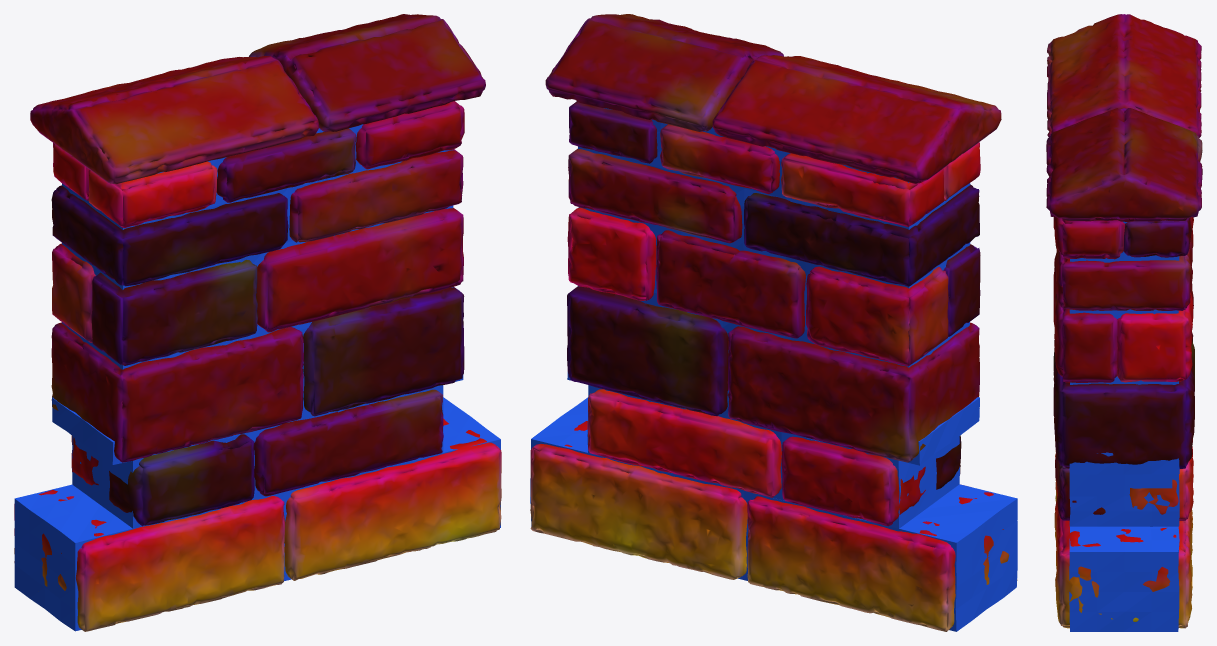
Rendered from SM_Merlon488_D.fbx.
3 renders of one model, left to right at view 1: azimuth 30°, elevation 25°; view 2: azimuth 150°, elevation 25°; view 3: azimuth 270°, elevation 25°, orthographic. The views are drawn at different scales.
Visible parts, largest first — view 1: SM_Merlon488_D; view 2: SM_Merlon488_D; view 3: SM_Merlon488_D.
Part boxes in pixels (box(x1,y1,x2,y2)): SM_Merlon488_D: box(14, 14, 501, 631); SM_Merlon488_D: box(530, 14, 1017, 631); SM_Merlon488_D: box(1046, 14, 1202, 631).
Size of the model in its own units: 171 by 190 by 60.2.
